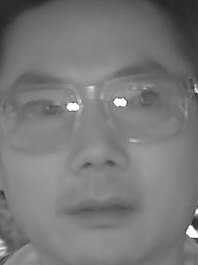eye: (23, 97, 65, 120), (128, 88, 163, 110)
glass: (95, 71, 186, 140), (4, 83, 84, 150)
mouth: (68, 190, 134, 230)
